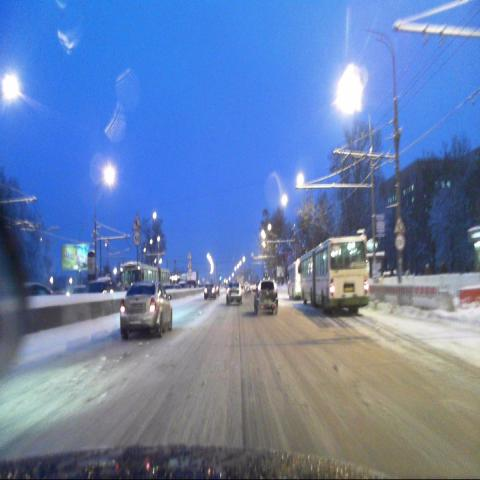1_25: (392, 216, 405, 234)
